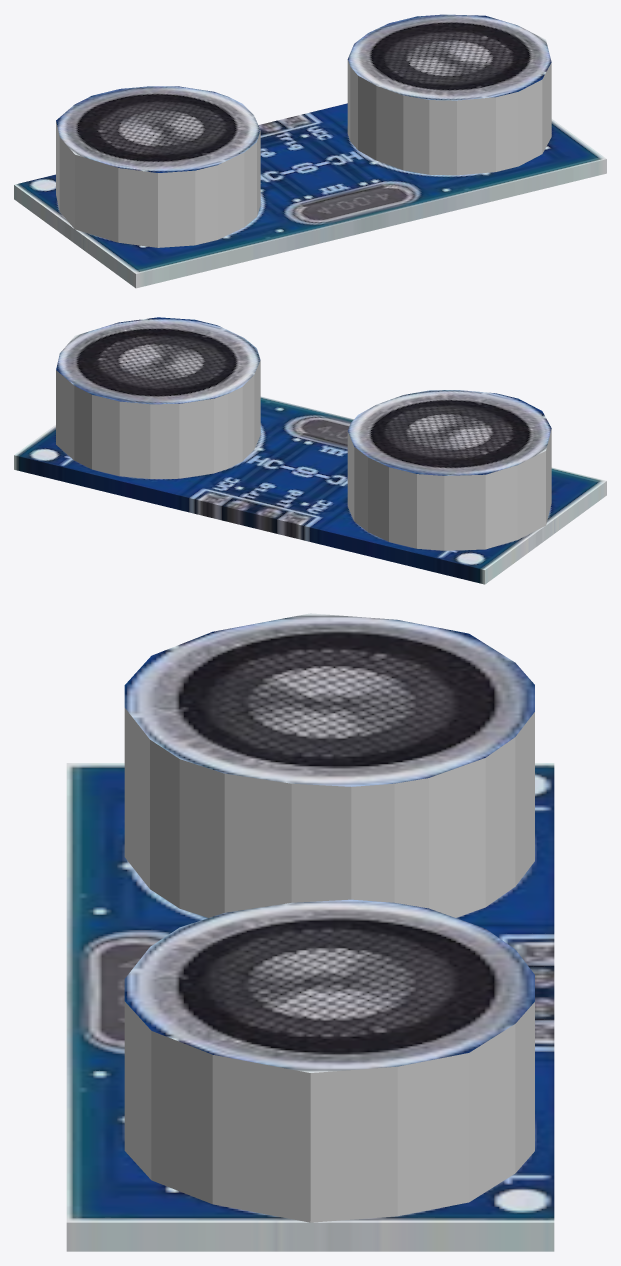
The model's file is ultsensor.glb.
3 views of the same model, one above another, from view 1: azimuth 30°, elevation 25°; view 2: azimuth 150°, elevation 25°; view 3: azimuth 270°, elevation 25° (orthographic). The views are drawn at different scales.
Parts seen in each view (by area): view 1: sensorultrassonico; view 2: sensorultrassonico; view 3: sensorultrassonico.
Part boxes in pixels (left/top/right/bottom): sensorultrassonico: left=14, top=14, right=606, bottom=288; sensorultrassonico: left=14, top=317, right=606, bottom=584; sensorultrassonico: left=66, top=613, right=554, bottom=1251.
Bounding box in the file's own units: 11.2 × 2.03 × 5.02.
3 materials, 1 textured.
